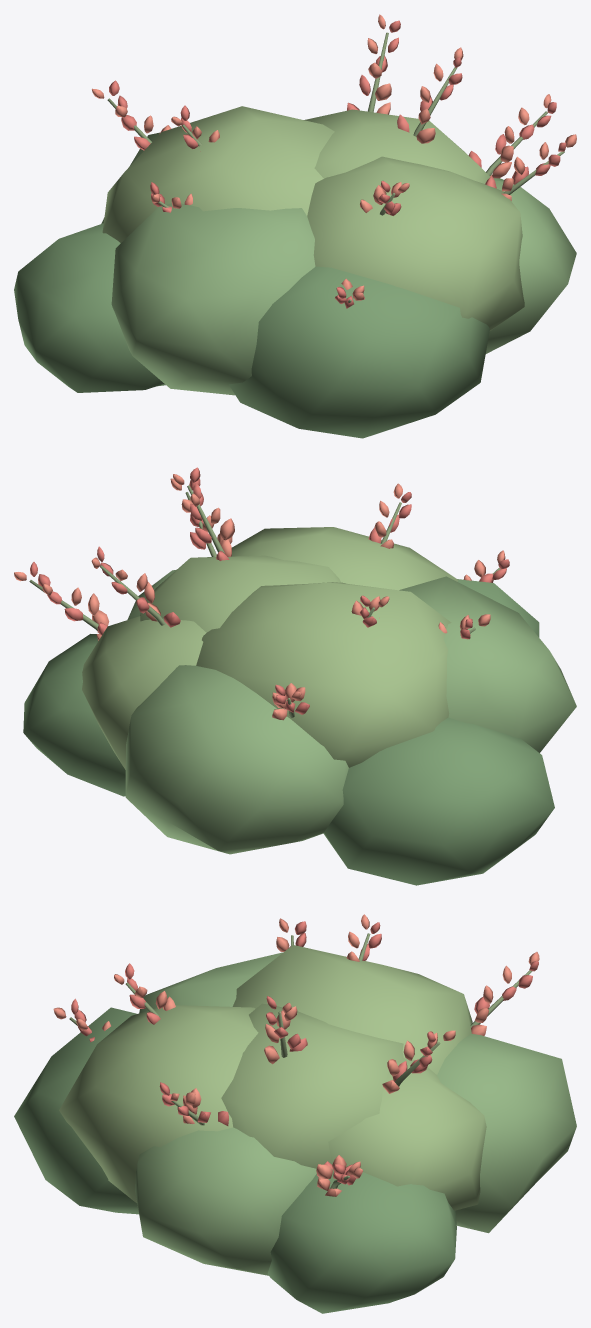
Rendered from ceibo_bush_1.glb.
The picture shows the model from 3 angles, top to bottom: view 1: azimuth 30°, elevation 25°; view 2: azimuth 150°, elevation 25°; view 3: azimuth 270°, elevation 25°; orthographic projection.
Parts seen in each view (by area): view 1: CeiboLeafL, CeiboLeafD, CeiboLeafM, CeiboPetal, CeiboFlower, CeiboWood; view 2: CeiboLeafL, CeiboLeafM, CeiboLeafD, CeiboPetal, CeiboFlower, CeiboWood; view 3: CeiboLeafL, CeiboLeafM, CeiboLeafD, CeiboPetal, CeiboFlower, CeiboWood.
Boxes of the visible parts, x1,y1,x2,y2 form: CeiboLeafL: [102, 106, 524, 330]; CeiboLeafD: [14, 174, 503, 438]; CeiboLeafM: [101, 132, 576, 395]; CeiboPetal: [92, 14, 576, 300]; CeiboFlower: [109, 20, 566, 308]; CeiboWood: [107, 32, 564, 302]; CeiboLeafL: [82, 527, 458, 769]; CeiboLeafM: [125, 569, 576, 854]; CeiboLeafD: [23, 579, 554, 885]; CeiboPetal: [14, 474, 505, 720]; CeiboFlower: [30, 467, 509, 714]; CeiboWood: [29, 485, 500, 717]; CeiboLeafL: [59, 945, 486, 1210]; CeiboLeafM: [135, 952, 576, 1275]; CeiboLeafD: [14, 1007, 456, 1313]; CeiboPetal: [53, 914, 539, 1196]; CeiboFlower: [71, 921, 538, 1185]; CeiboWood: [69, 933, 532, 1188].
Size of the model in its own units: 2.13 by 1.14 by 1.93.
